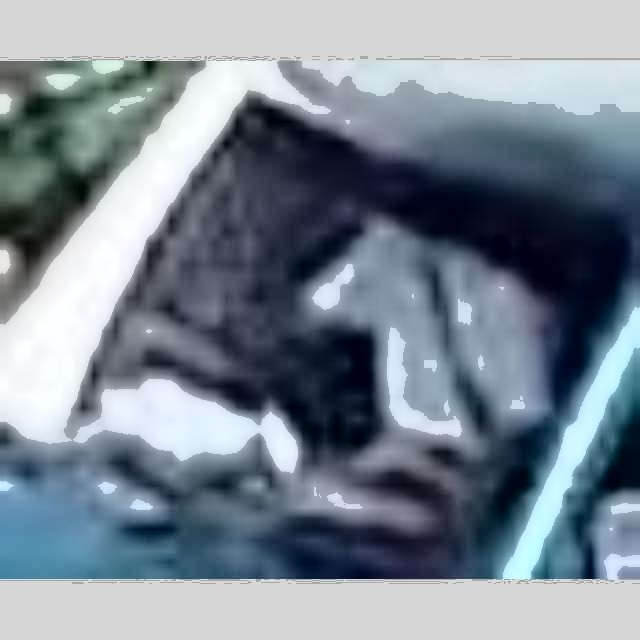pakai: (199, 204, 541, 480)
